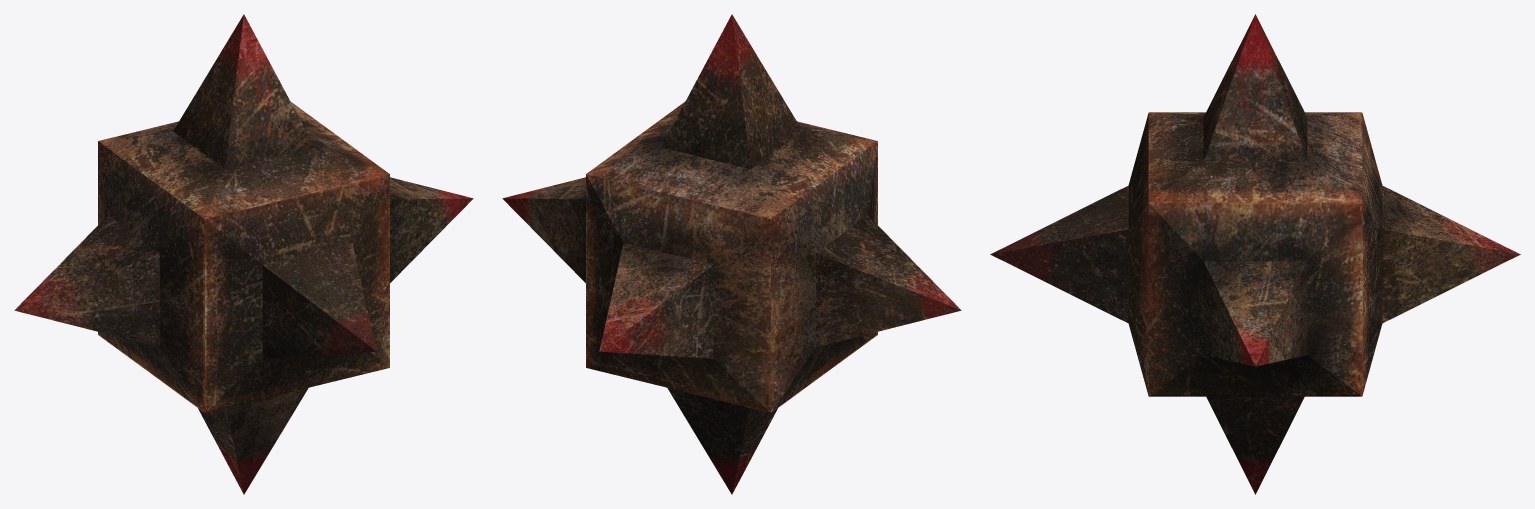
File: pinche.fbx
3 renders of one model, left to right at view 1: azimuth 30°, elevation 25°; view 2: azimuth 150°, elevation 25°; view 3: azimuth 270°, elevation 25°, orthographic.
Visible parts, largest first — view 1: Pincho; view 2: Pincho; view 3: Pincho.
Part boxes in pixels (x1,y1,x2,y2): Pincho: (14,14,473,494); Pincho: (502,14,961,494); Pincho: (990,14,1520,494).
Bounding box in the file's own units: 668 × 668 × 668.
1 material, 1 textured.
